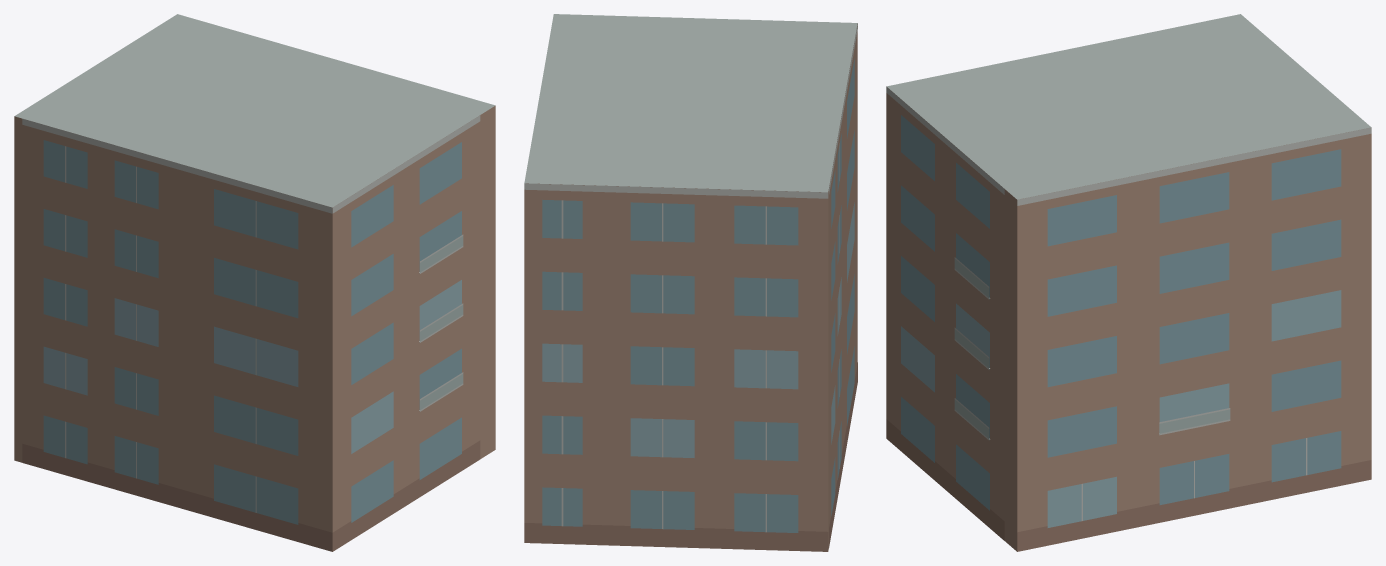
File: survey-upis-32613628.glb
3 views of the same model, side by side, from view 1: azimuth 30°, elevation 25°; view 2: azimuth 150°, elevation 25°; view 3: azimuth 270°, elevation 25° (orthographic). The views are drawn at different scales.
Parts seen in each view (by area): view 1: survey-upis-32613628.tmp; view 2: survey-upis-32613628.tmp; view 3: survey-upis-32613628.tmp.
Boxes of the visible parts, x1,y1,x2,y2 form: survey-upis-32613628.tmp: (14,14,495,551); survey-upis-32613628.tmp: (524,14,857,551); survey-upis-32613628.tmp: (886,14,1371,551).
Size of the model in its own units: 15.39 by 13.6 by 16.99.
